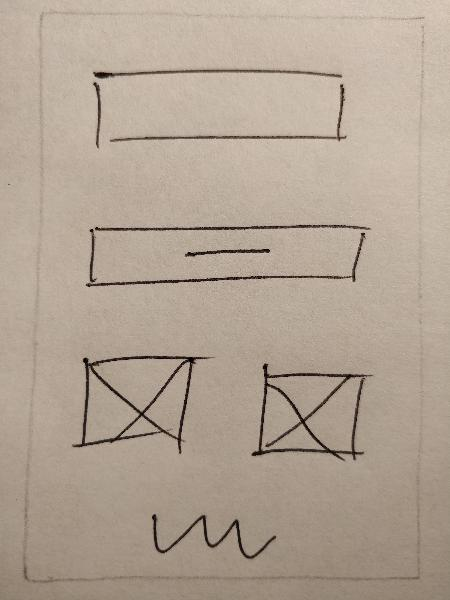button: (79, 215, 373, 294)
image: (71, 350, 212, 460), (247, 355, 373, 471)
text: (140, 497, 282, 568)
text_input: (85, 60, 358, 155)
